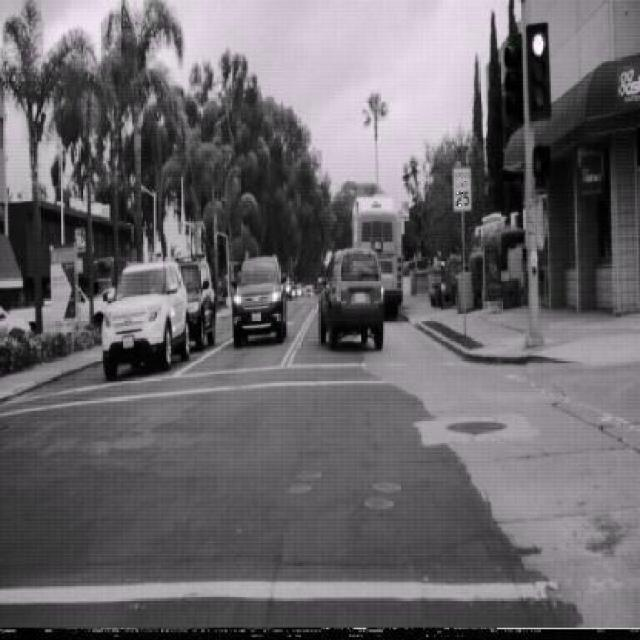speedLimit25: (452, 165, 473, 212)
